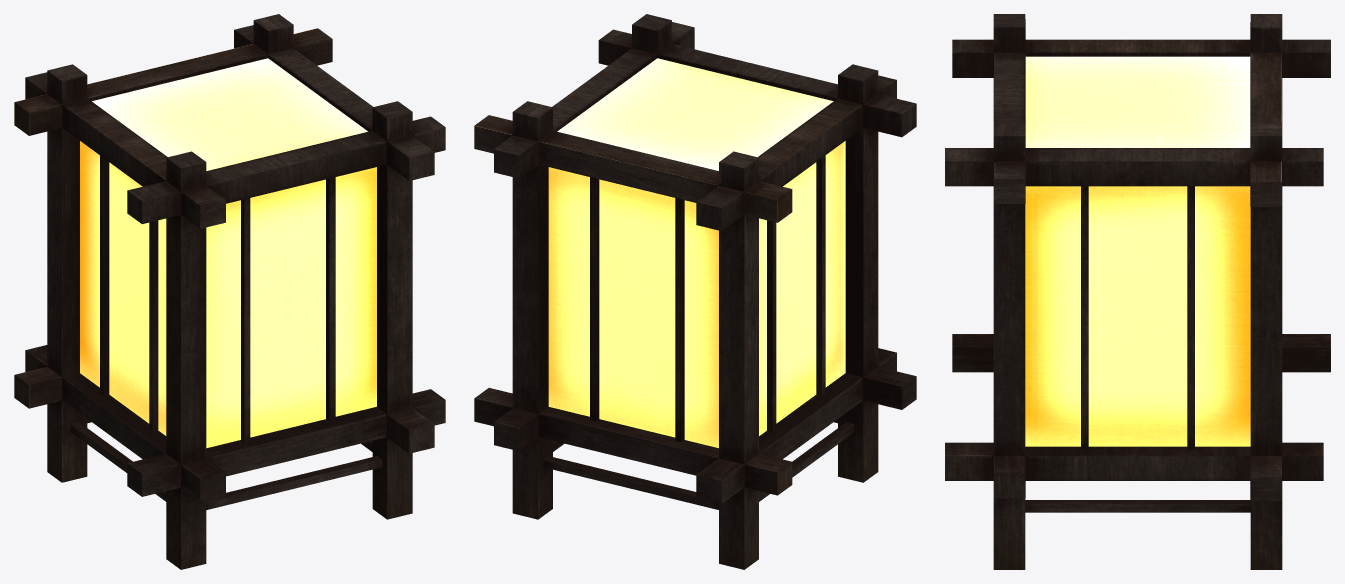
The model's file is NNJ0310014.fbx.
The picture shows the model from 3 angles, left to right: view 1: azimuth 30°, elevation 25°; view 2: azimuth 150°, elevation 25°; view 3: azimuth 270°, elevation 25°; orthographic projection. The views are drawn at different scales.
Visible parts, largest first — view 1: smNNJ0310014; view 2: smNNJ0310014; view 3: smNNJ0310014.
Part boxes in pixels (x1,y1,x2,y2): smNNJ0310014: (14, 14, 445, 569); smNNJ0310014: (474, 14, 916, 569); smNNJ0310014: (945, 14, 1330, 569).
Size of the model in its own units: 80.48 by 99.9 by 80.48.
1 material, 1 textured.
